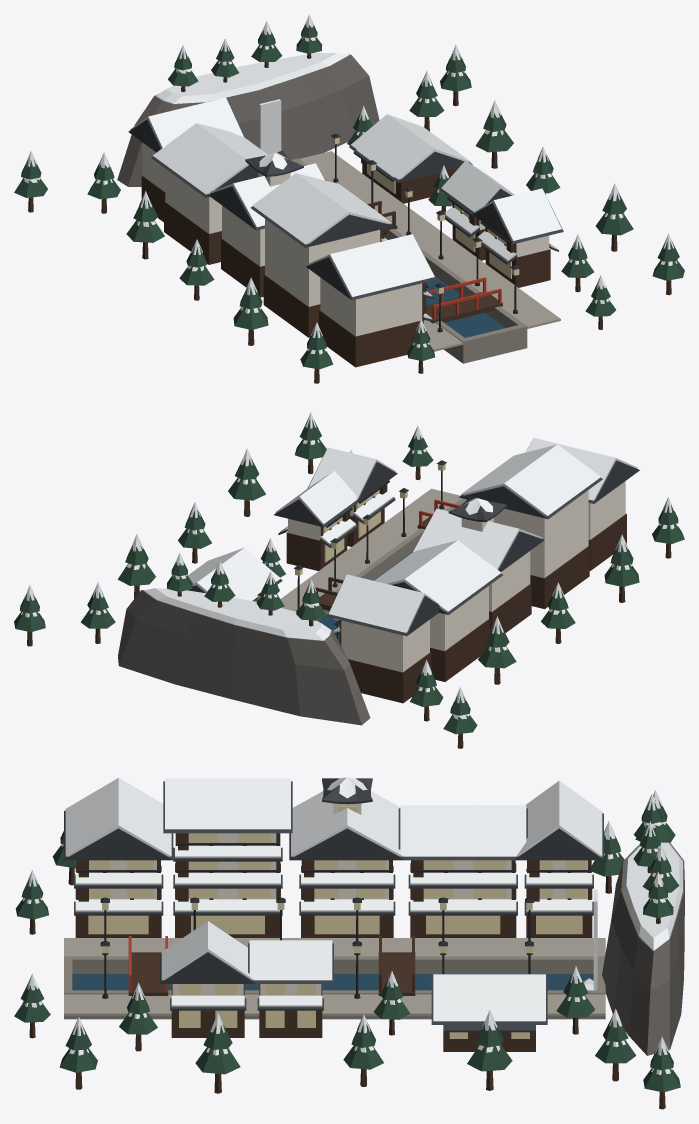
Rendered from ginzan-onsen.glb.
3 views of the same model, one above another, from view 1: azimuth 30°, elevation 25°; view 2: azimuth 150°, elevation 25°; view 3: azimuth 270°, elevation 25° (orthographic). The views are drawn at different scales.
Parts seen in each view (by area): view 1: ginzan_snow, ginzan_fir, ginzan_wood, ginzan_plaster, ginzan_rock, ginzan_roof, ginzan_pave, ginzan_stonewall, ginzan_water, ginzan_iron, glow_windows, ginzan_red; view 2: ginzan_snow, ginzan_rock, ginzan_fir, ginzan_plaster, ginzan_wood, ginzan_roof, ginzan_pave, ginzan_stonewall, ginzan_iron, glow_windows; view 3: ginzan_snow, ginzan_roof, ginzan_fir, ginzan_wood, glow_windows, ginzan_pave, ginzan_rock, ginzan_stonewall, ginzan_plaster, ginzan_iron, ginzan_water, glow_lamps.
Part boxes in pixels (x1,y1,x2,y2): ginzan_snow: (22,14,677,354); ginzan_fir: (14,24,684,369); ginzan_wood: (28,53,671,383); ginzan_plaster: (142,143,549,336); ginzan_rock: (117,54,379,186); ginzan_roof: (128,102,563,321); ginzan_pave: (299,151,560,351); ginzan_stonewall: (291,158,527,363); ginzan_water: (426,276,505,337); ginzan_iron: (331,133,520,332); glow_windows: (367,163,511,278); ginzan_red: (427,277,501,320); ginzan_snow: (21,412,677,719); ginzan_rock: (118,590,370,725); ginzan_fir: (14,419,684,734); ginzan_plaster: (288,481,625,672); ginzan_wood: (27,459,671,748); ginzan_roof: (188,448,639,636); ginzan_pave: (280,488,461,611); ginzan_stonewall: (317,498,466,620); ginzan_iron: (257,460,446,639); glow_windows: (323,490,380,562); ginzan_snow: (22,777,682,1074); ginzan_roof: (64,778,603,1032); ginzan_fir: (14,800,680,1092); ginzan_wood: (29,833,665,1109); glow_windows: (88,806,586,1038); ginzan_pave: (64,938,605,1015); ginzan_rock: (602,842,684,1055); ginzan_stonewall: (64,956,605,1019); ginzan_plaster: (89,803,587,995); ginzan_iron: (77,843,590,998); ginzan_water: (72,974,593,990); glow_lamps: (102,903,532,953).
Bounding box in the file's own units: 18.83 × 5.69 × 20.25.
